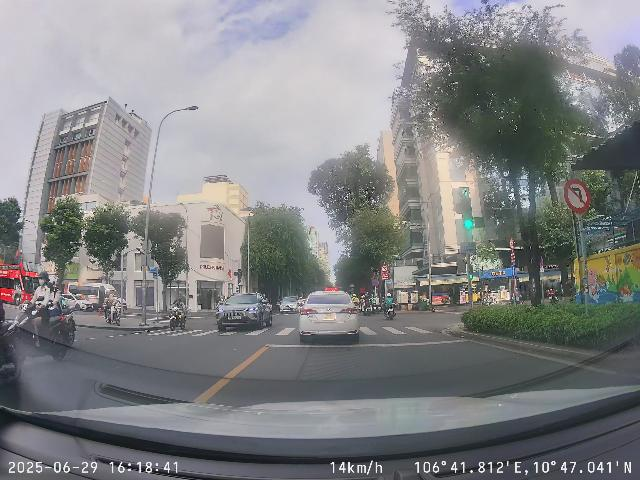123a-cam-re-trai: (564, 178, 590, 213)
